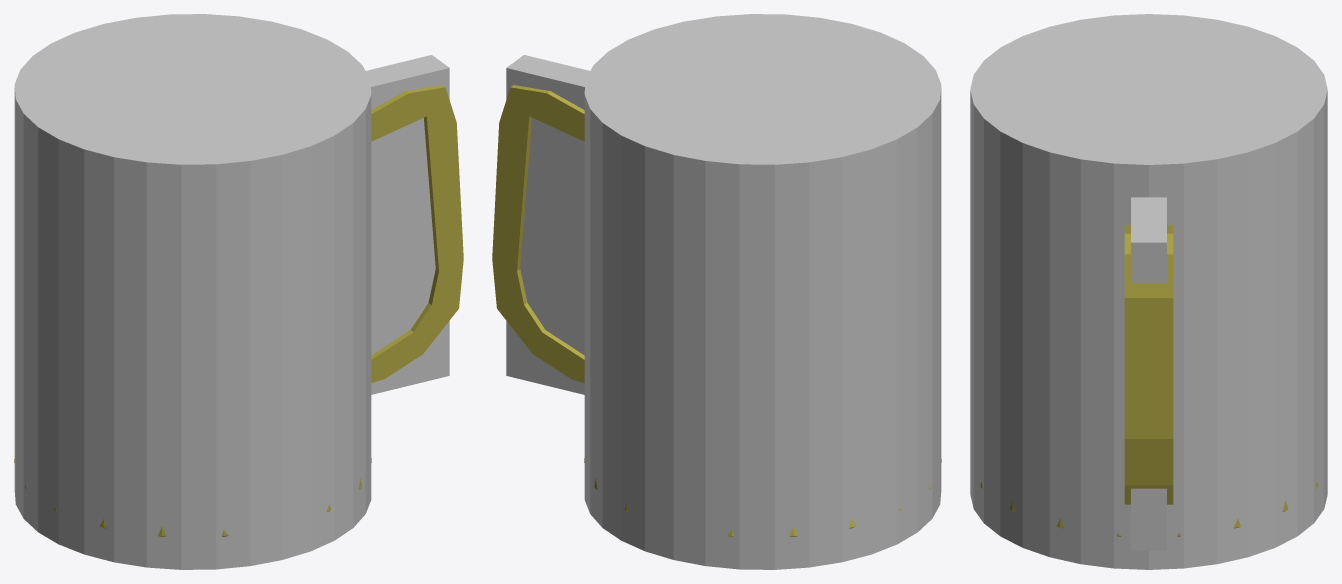
The model's file is CiderMug.obj.
3 views of the same model, side by side, from view 1: azimuth 30°, elevation 25°; view 2: azimuth 150°, elevation 25°; view 3: azimuth 270°, elevation 25° (orthographic).
Visible parts, largest first — view 1: CiderMug_phys_Circle, CiderMug_idle_Cube; view 2: CiderMug_phys_Circle, CiderMug_idle_Cube; view 3: CiderMug_phys_Circle, CiderMug_idle_Cube.
Part boxes in pixels (left/top/right/bottom): CiderMug_phys_Circle: left=14, top=14, right=449, bottom=569; CiderMug_idle_Cube: left=14, top=85, right=463, bottom=537; CiderMug_phys_Circle: left=506, top=14, right=941, bottom=569; CiderMug_idle_Cube: left=492, top=85, right=941, bottom=537; CiderMug_phys_Circle: left=970, top=14, right=1327, bottom=569; CiderMug_idle_Cube: left=980, top=224, right=1317, bottom=536.
Size of the model in its own units: 2.67 by 2.5 by 2.
